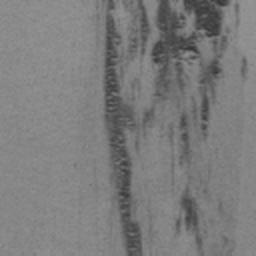Slag inclusion: (102, 0, 232, 256), (175, 188, 202, 248), (178, 113, 192, 154), (239, 52, 248, 78)
